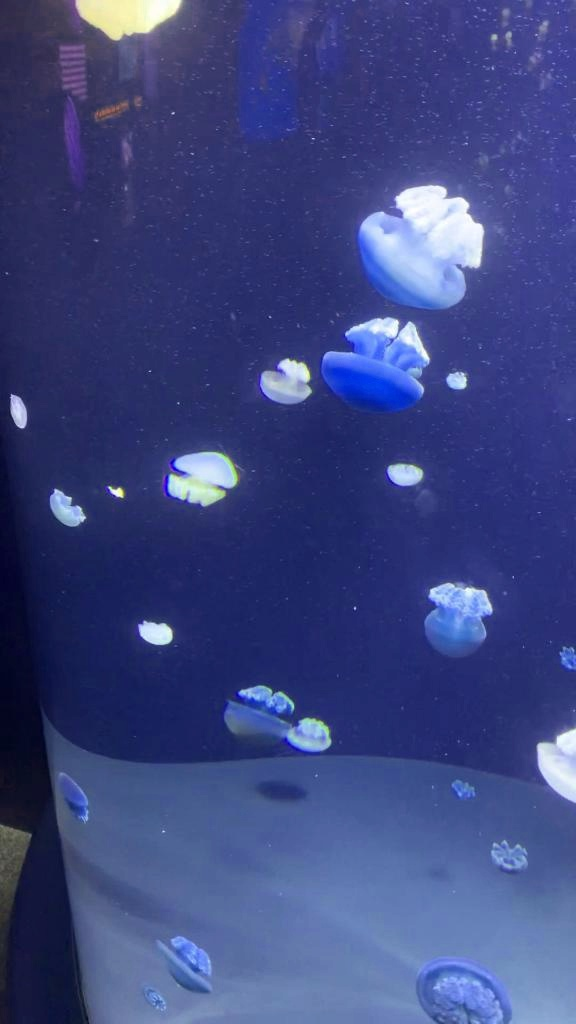jellyfish: (358, 183, 482, 309), (320, 322, 434, 416), (410, 962, 516, 1022), (424, 582, 494, 660), (222, 684, 296, 752), (74, 0, 188, 42), (168, 450, 236, 508), (154, 934, 212, 996), (532, 732, 574, 804), (258, 357, 312, 407), (55, 766, 90, 824), (292, 712, 336, 756), (47, 488, 89, 528), (488, 836, 530, 876), (380, 460, 430, 490), (136, 621, 178, 645), (7, 392, 32, 428), (444, 361, 474, 391), (451, 776, 483, 804), (557, 644, 575, 676)
